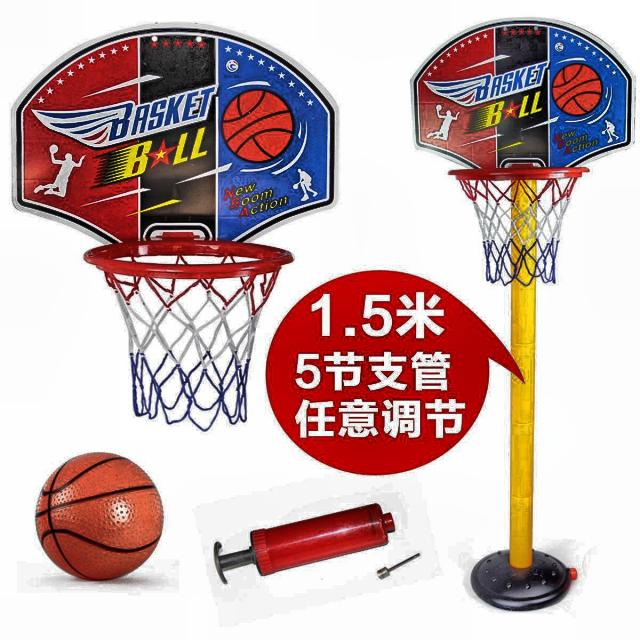board: (35, 452, 164, 581)
rim: (85, 236, 293, 428), (445, 165, 589, 287)
